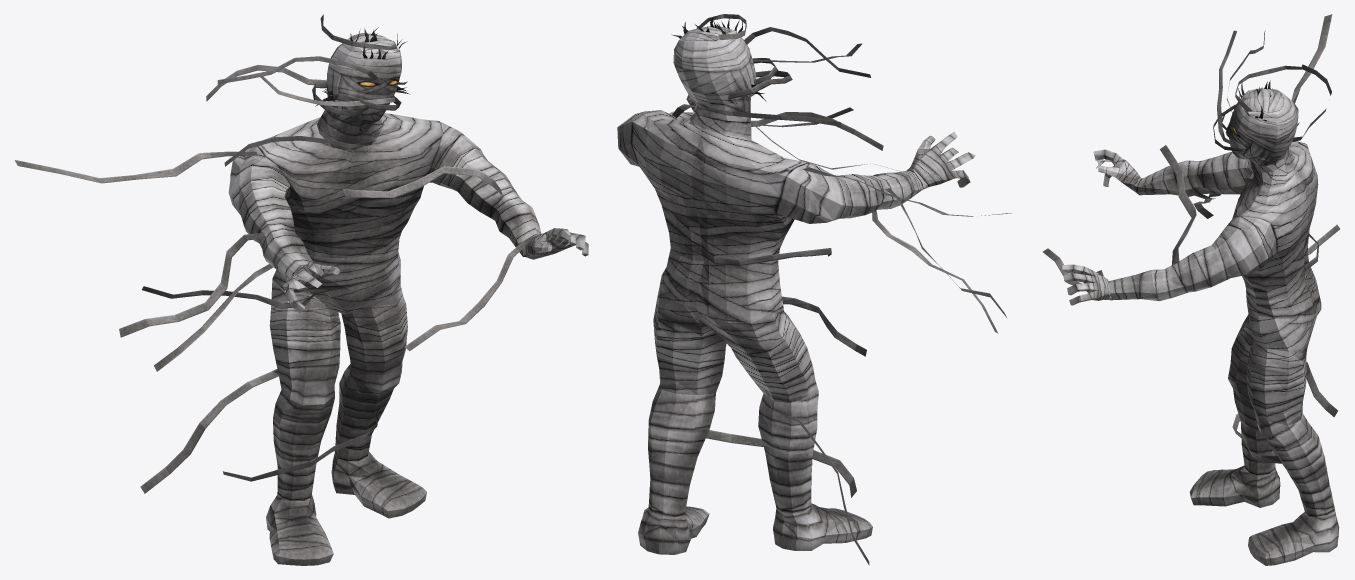
The model's file is Mummy.fbx.
The picture shows the model from 3 angles, left to right: view 1: azimuth 30°, elevation 25°; view 2: azimuth 150°, elevation 25°; view 3: azimuth 270°, elevation 25°; orthographic projection. The views are drawn at different scales.
Parts seen in each view (by area): view 1: Body; view 2: Body; view 3: Body.
Part boxes in pixels (box(x1,y1,x2,y2)): Body: box(14, 14, 588, 565); Body: box(617, 14, 1011, 565); Body: box(1043, 14, 1339, 565).
Bounding box in the file's own units: 1383 × 1485 × 867.
1 material, 1 textured.
